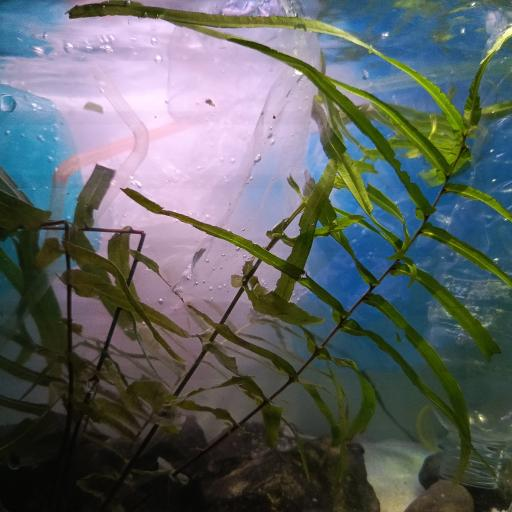plastic_bag: (96, 3, 323, 377), (296, 42, 512, 372), (0, 78, 99, 348)
plastic_bottle: (423, 67, 512, 487)
plastic_straw: (0, 64, 151, 338), (50, 122, 180, 239)
